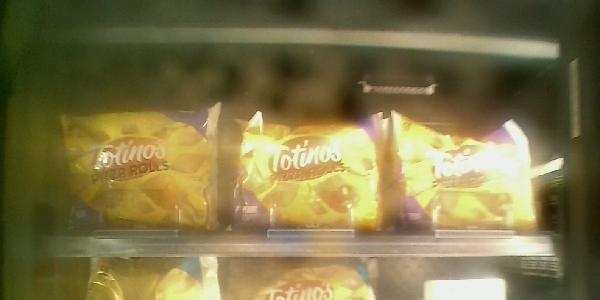icecream: (54, 99, 222, 236), (392, 106, 542, 240), (225, 112, 384, 237)
